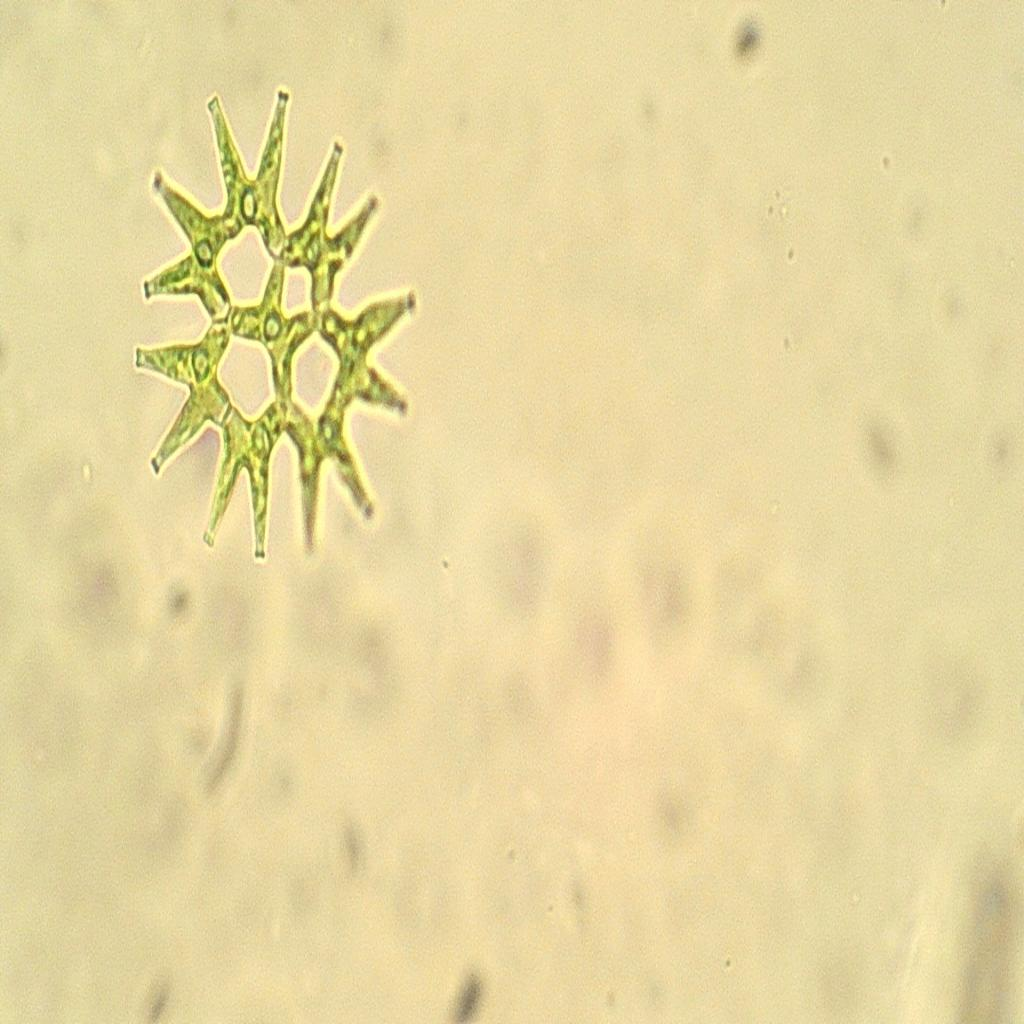Pediastrum_75T: (127, 75, 422, 585)
